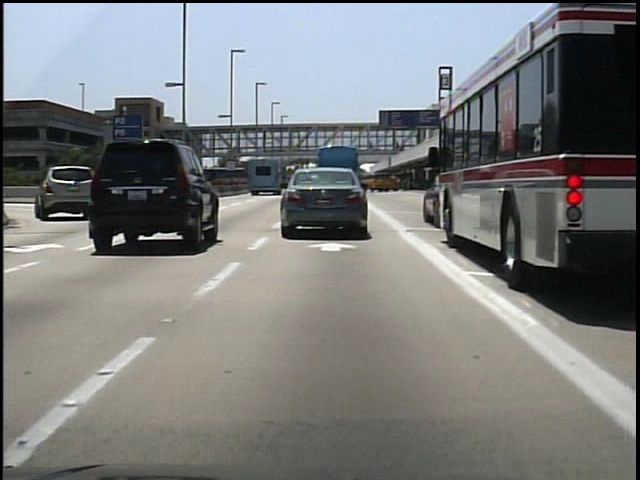person: (392, 136, 405, 157), (364, 136, 377, 156)
